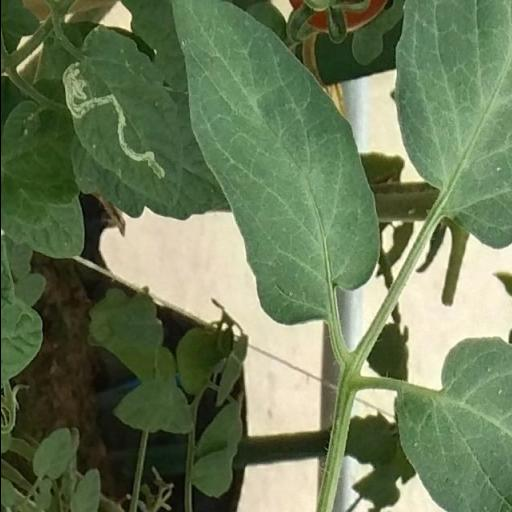disease_tomato: (58, 24, 188, 210)
